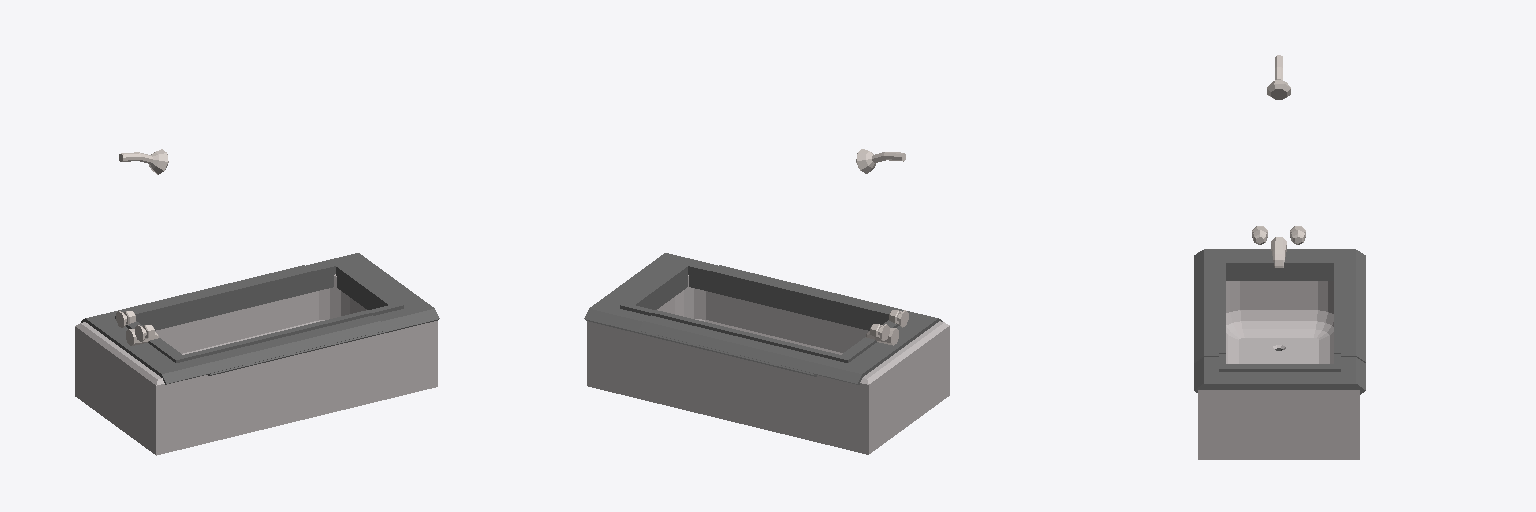
Rendered from Bathtub.obj.
The picture shows the model from 3 angles: view 1: azimuth 30°, elevation 25°; view 2: azimuth 150°, elevation 25°; view 3: azimuth 270°, elevation 25°; orthographic projection.
Visible parts, largest first — view 1: mergedBlocks; view 2: mergedBlocks; view 3: mergedBlocks.
Part boxes in pixels (bbox=[...]): mergedBlocks: bbox=[75, 149, 439, 455]; mergedBlocks: bbox=[584, 149, 949, 454]; mergedBlocks: bbox=[1194, 55, 1365, 459].
Size of the model in its own units: 2 by 1.83 by 1.06.